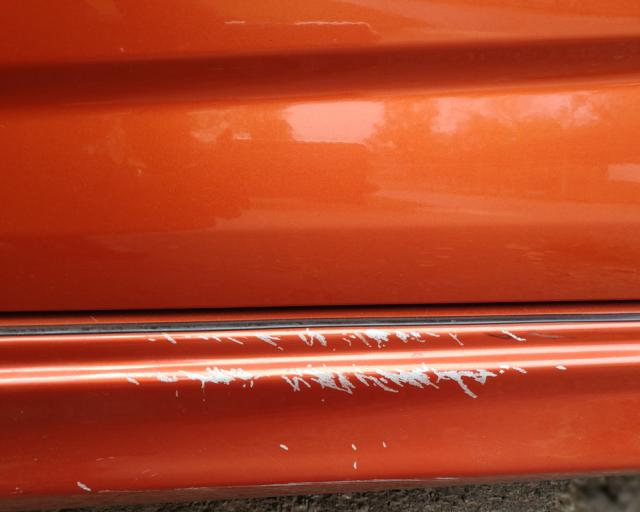scratch: (120, 324, 572, 404)
